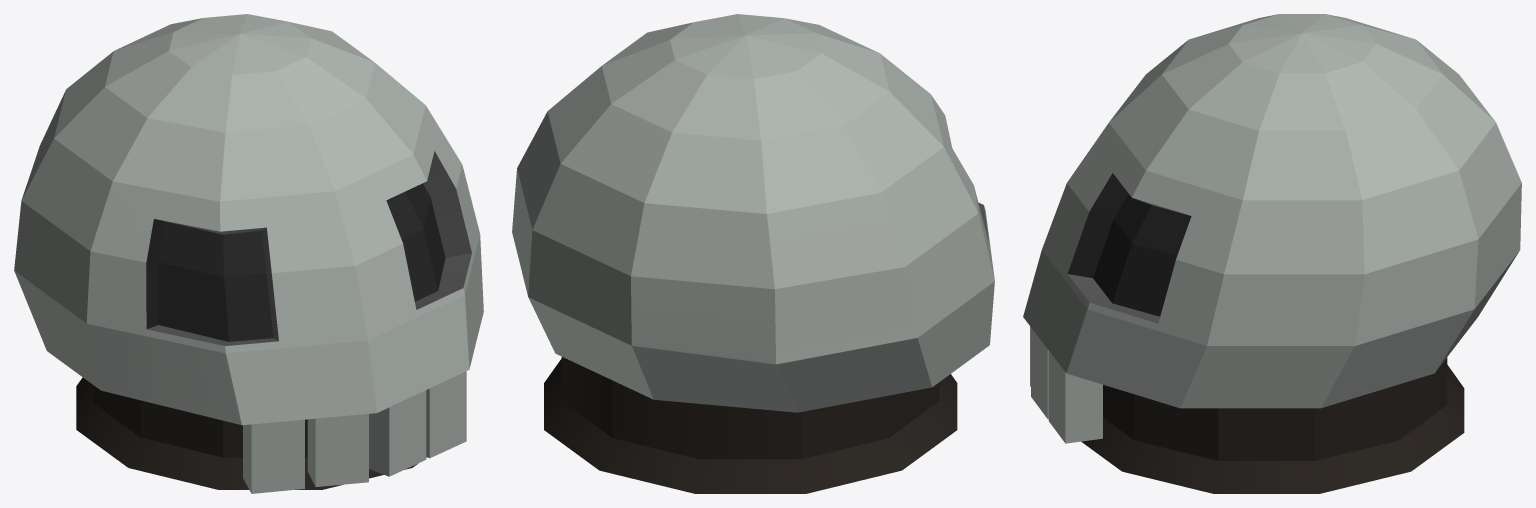
File: Skull.fbx
3 renders of one model, left to right at view 1: azimuth 30°, elevation 25°; view 2: azimuth 150°, elevation 25°; view 3: azimuth 270°, elevation 25°, orthographic. The views are drawn at different scales.
Visible parts, largest first — view 1: Espada2; view 2: Espada2; view 3: Espada2.
Part boxes in pixels (left/top/right/bottom): Espada2: left=14, top=14, right=483, bottom=493; Espada2: left=512, top=14, right=994, bottom=493; Espada2: left=1023, top=14, right=1521, bottom=493.
Size of the model in its own units: 190 by 171 by 209.
